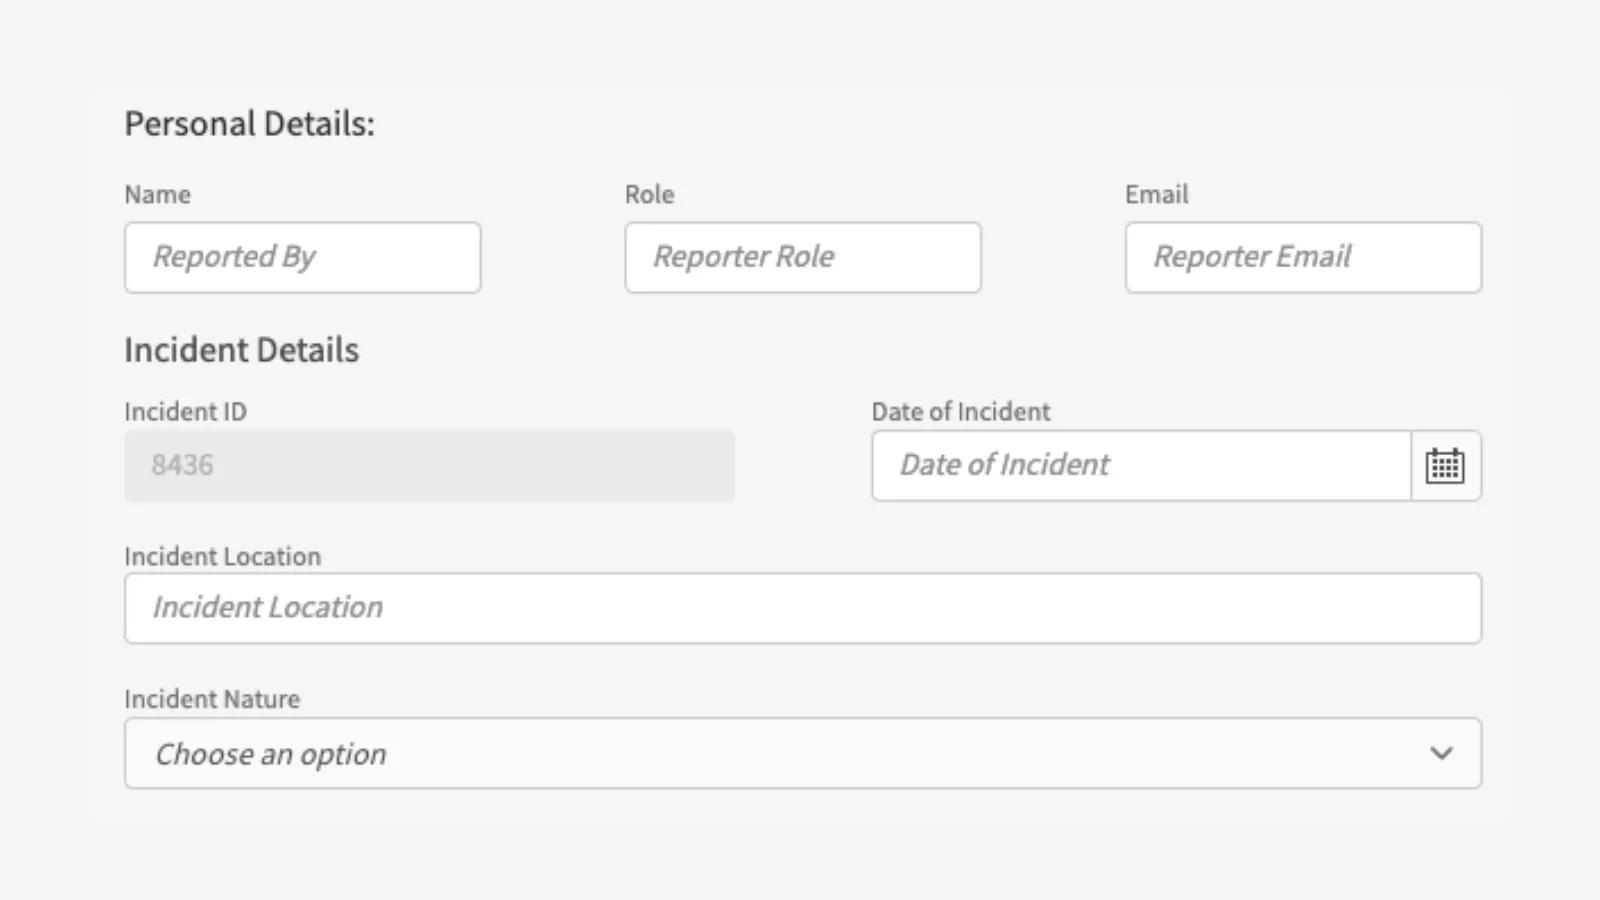button: (1421, 436, 1481, 500)
dropdown: (126, 719, 1482, 788)
input: (126, 577, 1485, 651), (127, 431, 735, 505), (873, 436, 1416, 500), (626, 220, 984, 298), (1127, 224, 1482, 295), (127, 224, 481, 295)
label: (115, 104, 382, 149), (121, 541, 326, 568), (121, 685, 307, 712), (864, 400, 1054, 424), (121, 393, 256, 421), (1123, 180, 1200, 211), (124, 179, 196, 211), (625, 181, 679, 213)
